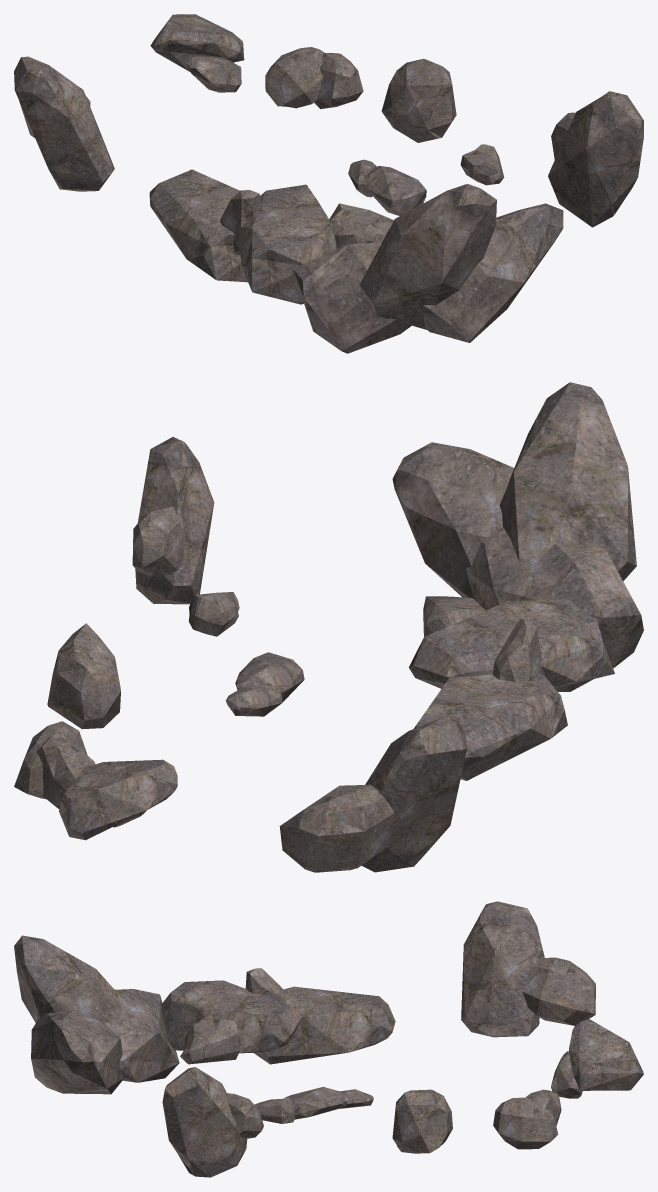
The picture shows the model from 3 angles, top to bottom: view 1: azimuth 30°, elevation 25°; view 2: azimuth 150°, elevation 25°; view 3: azimuth 270°, elevation 25°; orthographic projection. The views are drawn at different scales.
Visible parts, largest first — view 1: Rock_5, Rock_6, Rock_5__2_, Rock_6__3_, Rock_6__1_, Rock_5__3_, Rock_6__2_, Rock_4__1_, Rock_1, Rock_2__1_, Rock_6__5_, Rock_3 (+6 smaller); view 2: Rock_5, Rock_5__2_, Rock_5__3_, Rock_6__1_, Rock_6__3_, Rock_6__2_, Rock_6, Rock_2__3_, Rock_1, Rock_4__1_, Rock_4, Rock_2__1_ (+6 smaller); view 3: Rock_6__3_, Rock_5__2_, Rock_6__2_, Rock_6, Rock_6__1_, Rock_5, Rock_5__3_, Rock_1, Rock_2__3_, Rock_4__1_, Rock_2, Rock_3 (+7 smaller).
Boxes of the visible parts, x1,y1,x2,y2 form: Rock_5: [359, 184, 496, 330]; Rock_6: [548, 91, 643, 227]; Rock_5__2_: [423, 203, 563, 342]; Rock_6__3_: [14, 56, 114, 191]; Rock_6__1_: [238, 184, 337, 304]; Rock_5__3_: [293, 242, 411, 353]; Rock_6__2_: [149, 169, 247, 282]; Rock_4__1_: [381, 58, 456, 142]; Rock_1: [150, 14, 244, 71]; Rock_2__1_: [265, 47, 325, 108]; Rock_6__5_: [364, 166, 426, 215]; Rock_3: [329, 203, 393, 248]; Rock_5: [499, 382, 636, 581]; Rock_5__2_: [392, 442, 514, 599]; Rock_5__3_: [466, 527, 643, 691]; Rock_6__1_: [409, 599, 614, 688]; Rock_6__3_: [361, 715, 466, 872]; Rock_6__2_: [413, 674, 567, 780]; Rock_6: [135, 437, 214, 604]; Rock_2__3_: [279, 784, 393, 872]; Rock_1: [59, 759, 177, 840]; Rock_4__1_: [47, 623, 120, 729]; Rock_4: [132, 507, 183, 576]; Rock_2__1_: [36, 736, 95, 808]; Rock_6__3_: [461, 901, 544, 1037]; Rock_5__2_: [31, 1010, 123, 1094]; Rock_6__2_: [254, 986, 395, 1064]; Rock_6: [162, 1067, 247, 1177]; Rock_6__1_: [161, 980, 301, 1053]; Rock_5: [14, 935, 134, 1023]; Rock_5__3_: [103, 989, 179, 1082]; Rock_1: [569, 1019, 643, 1090]; Rock_2__3_: [522, 957, 595, 1025]; Rock_4__1_: [392, 1089, 452, 1153]; Rock_2: [493, 1097, 558, 1149]; Rock_3: [180, 1014, 240, 1064].
Bounding box in the file's own units: 13035 × 5207 × 18688.
6 materials, 6 textured.
